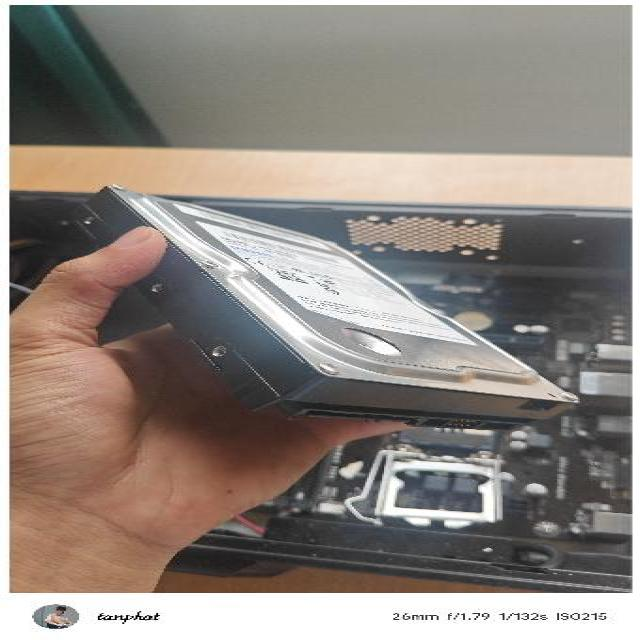DISK: (53, 178, 578, 436)
